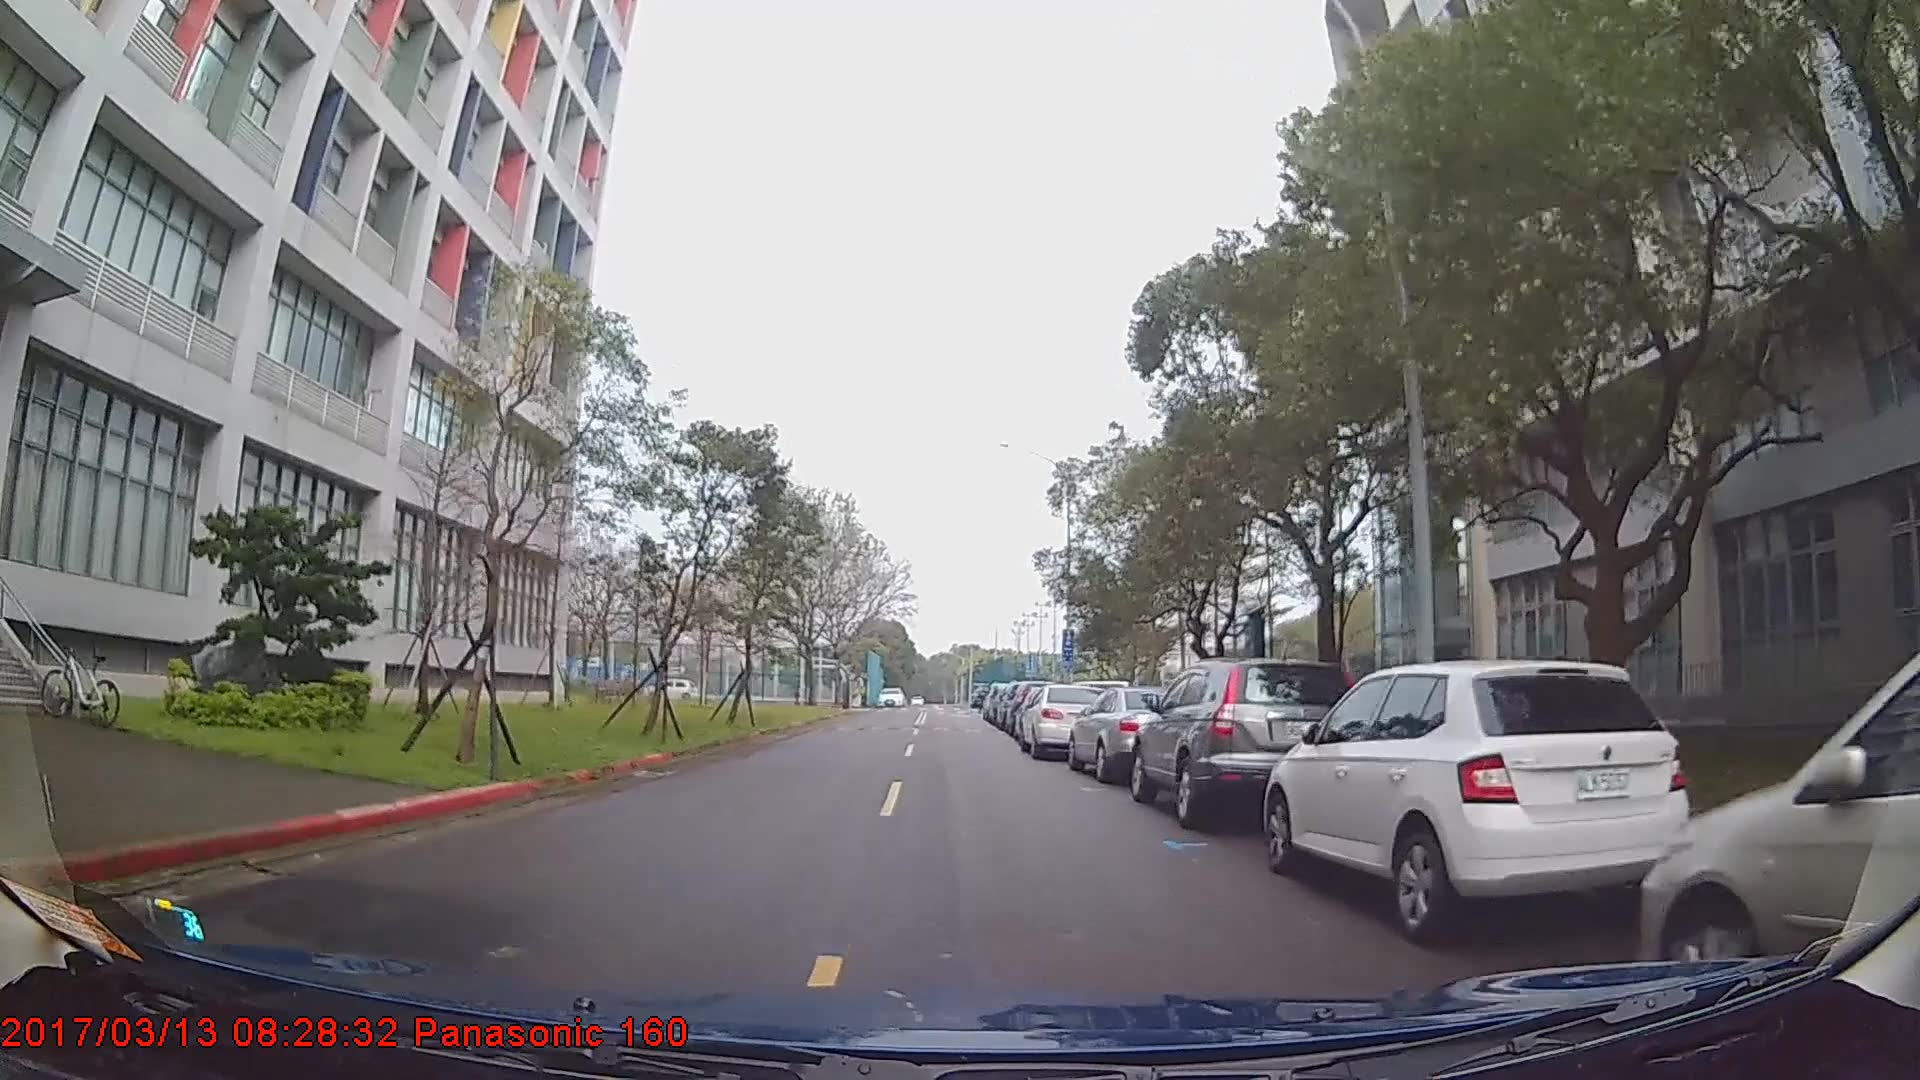vehicle: (1261, 655, 1689, 945), (1640, 665, 1919, 1005), (1126, 659, 1362, 831), (1068, 686, 1184, 785), (1015, 680, 1114, 760), (647, 676, 699, 703)
